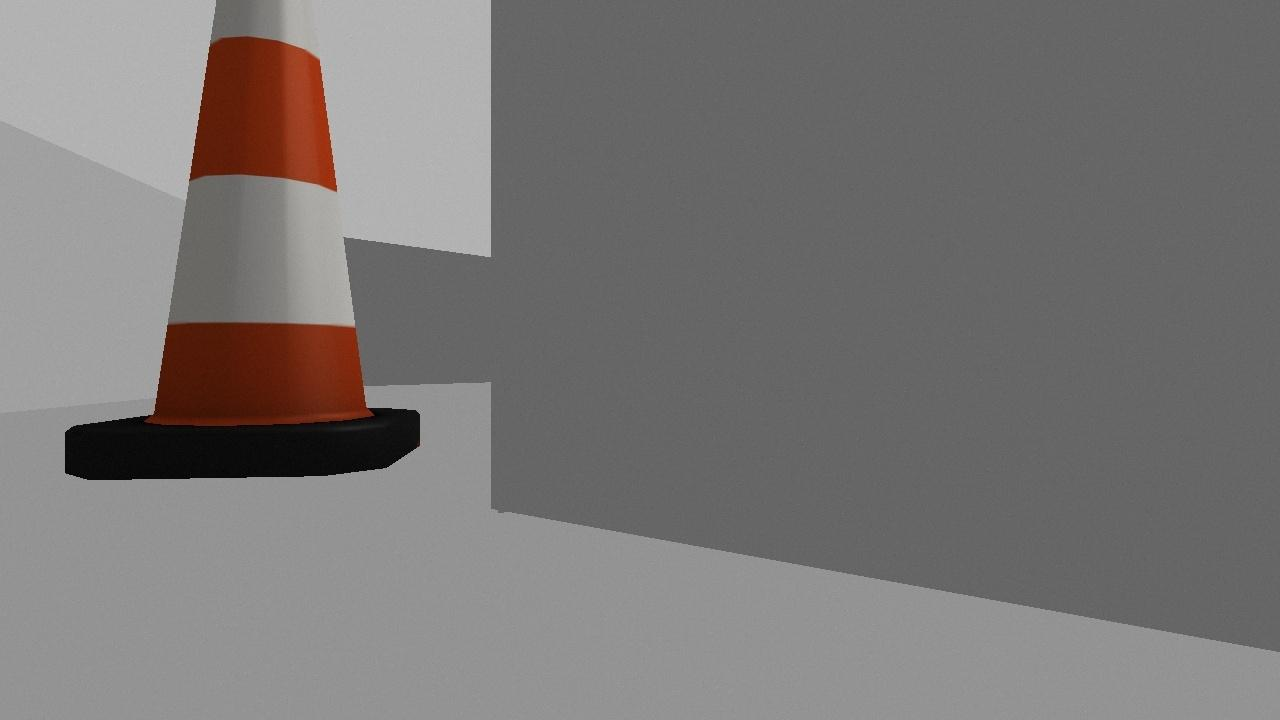cone_barrel: (63, 0, 420, 479)
